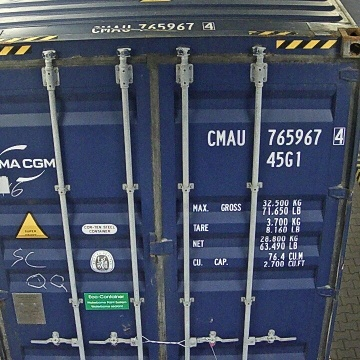serial_id: (207, 127, 344, 145)
